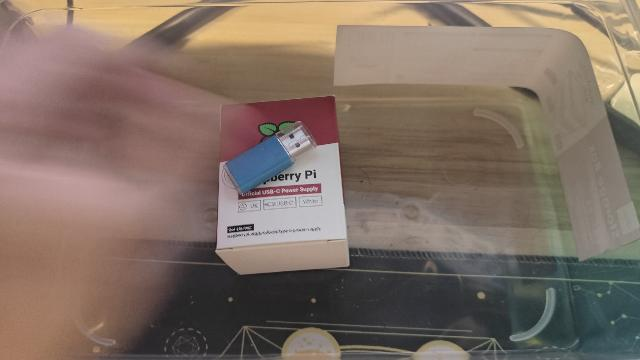charger_box: (214, 94, 350, 277)
sdcard_reader: (219, 119, 307, 198)
